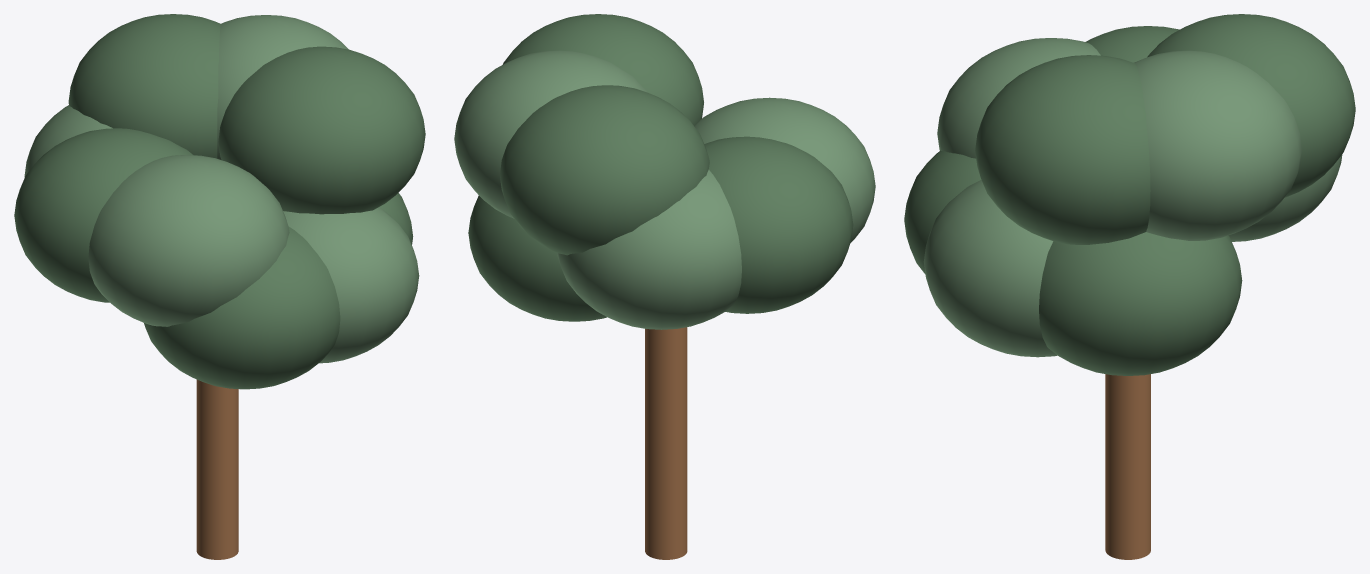
The model's file is tree.glb.
3 views of the same model, side by side, from view 1: azimuth 30°, elevation 25°; view 2: azimuth 150°, elevation 25°; view 3: azimuth 270°, elevation 25° (orthographic). The views are drawn at different scales.
Parts seen in each view (by area): view 1: tree; view 2: tree; view 3: tree.
Part boxes in pixels (left/top/right/bottom): tree: left=14, top=14, right=425, bottom=559; tree: left=454, top=14, right=875, bottom=559; tree: left=904, top=14, right=1355, bottom=559.
Size of the model in its own units: 2.59 by 3.32 by 2.58.
